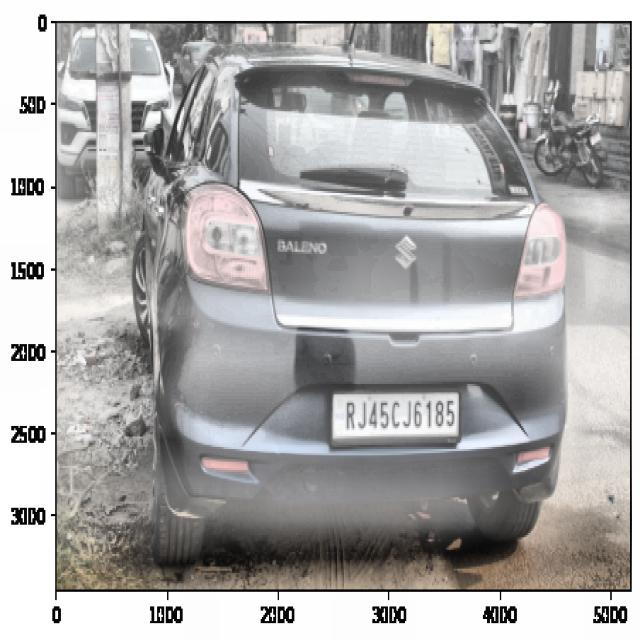license_plate: (339, 388, 460, 440)
